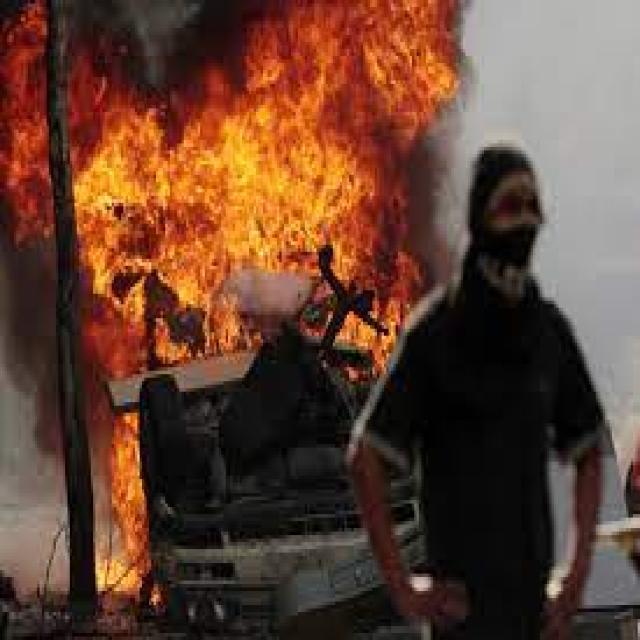Fire: (0, 0, 256, 258), (254, 0, 460, 221), (90, 254, 422, 378), (96, 410, 162, 604), (257, 223, 428, 276)
Smoke: (2, 262, 96, 454)
